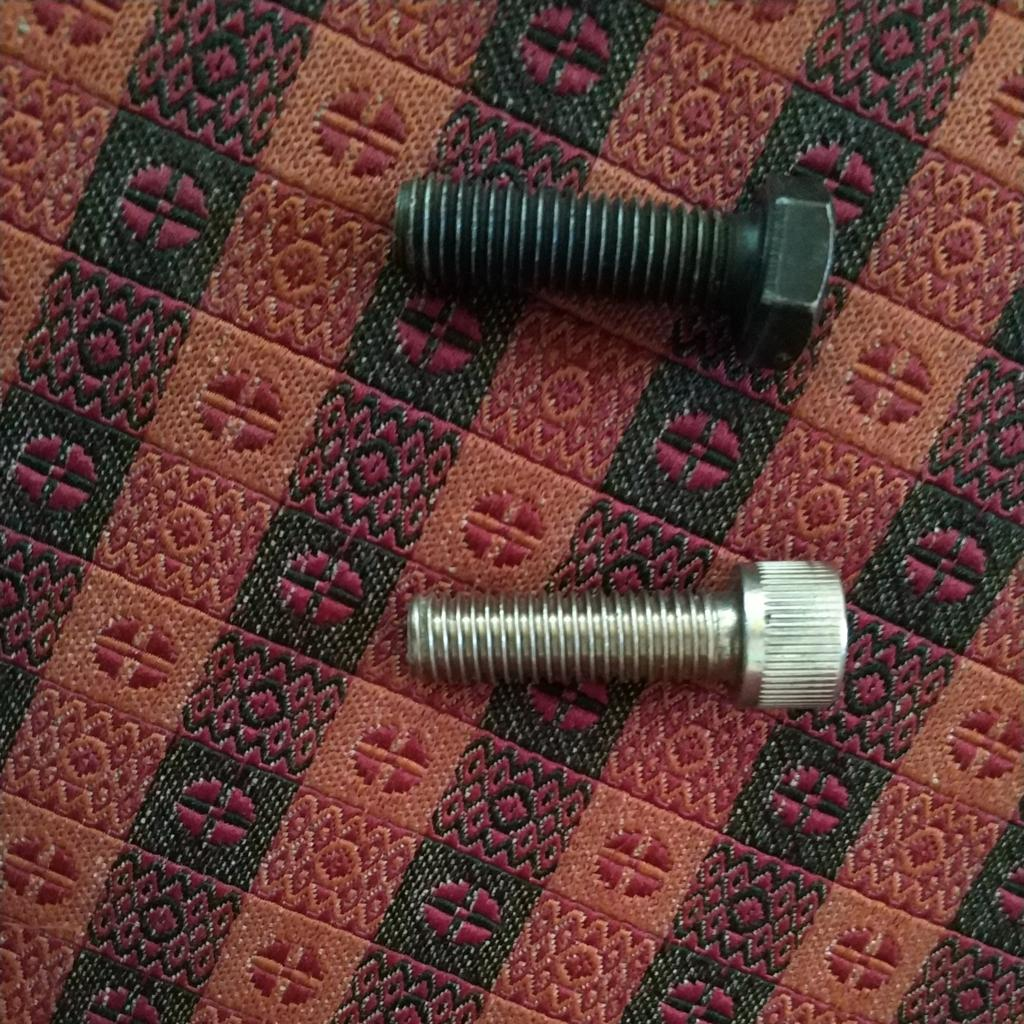screwtype1silver: (402, 556, 848, 714)
screwtype2black: (383, 160, 836, 373)
